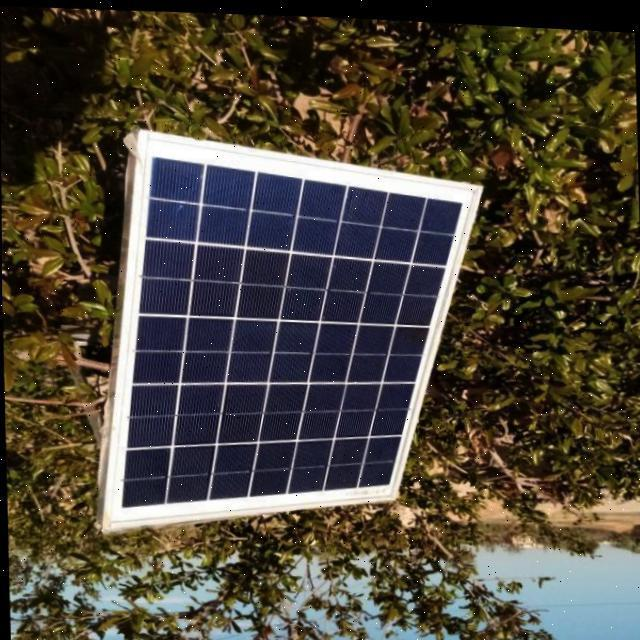Normal Solar Panel: (90, 126, 497, 542)
